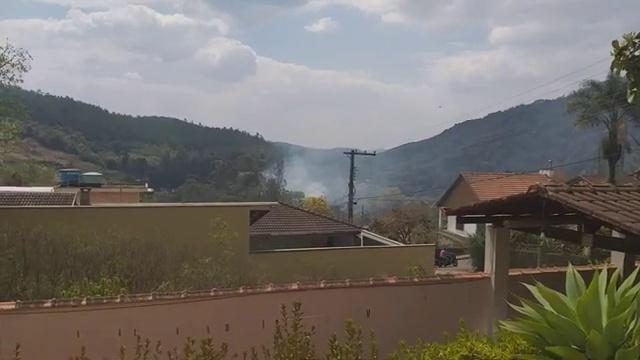smoke: (290, 163, 329, 195)
